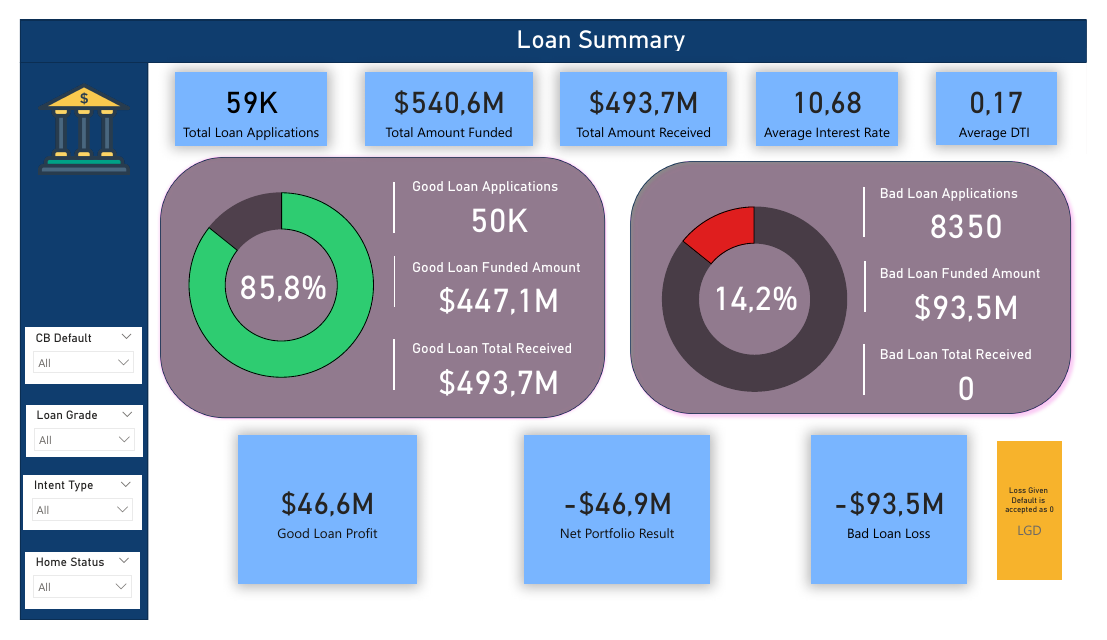

This screenshot's page, from the dashboard's own definition file:
{"tool":"powerbi","page":{"name":"Loan Summary","canvas":[1280,720],"ordinal":1},"visuals":[{"type":"shape","box":[164.4,161.1,541.1,320],"z":0},{"type":"shape","box":[0,0,1280,51.1],"z":1000},{"type":"shape","box":[0,51.1,154.4,668.9],"z":2000},{"type":"card","fields":{"Values":["sheet1.Total Records"]},"box":[185.6,63.3,183.3,87.8],"z":3000},{"type":"card","fields":{"Values":["sheet1.TotalAmountReceived"]},"box":[647.8,62.2,201.1,88.9],"z":4000},{"type":"card","fields":{"Values":["sheet1.Portfolio Value"]},"box":[414.4,63.3,201.1,87.8],"z":5000},{"type":"card","fields":{"Values":["Avg(sheet1.loan_int_rate)"]},"box":[883.3,63.3,171.1,87.8],"z":6000},{"type":"donutChart","fields":{"Category":["sheet1.loan_status"],"Y":["CountNonNull(sheet1.loan_status)"]},"box":[170,174.4,292.2,287.8],"z":7000},{"type":"card","fields":{"Values":["sheet1.Good Loan Percentage"]},"box":[217.8,234.4,196.7,166.7],"z":8000},{"type":"card","title":"Good Loan Applications","fields":{"Values":["sheet1.Good Loan Applications"]},"box":[465.6,190,217.8,74.4],"z":9000},{"type":"shape","box":[420,194.4,57.8,61.1],"z":10000},{"type":"shape","box":[421.1,283.3,56.7,61.1],"z":11000},{"type":"shape","box":[420,383.3,57.8,61.1],"z":12000},{"type":"card","title":"Good Loan Funded Amount","fields":{"Values":["sheet1.Good Loan Funded Amount"]},"box":[465.6,286.7,217.8,74.4],"z":13000},{"type":"card","title":"Good Loan Total Received","fields":{"Values":["sheet1.TotalAmountReceived"]},"box":[465.6,384.4,217.8,74.4],"z":14000},{"type":"shape","box":[724.4,161.1,545.6,320],"z":15000},{"type":"donutChart","fields":{"Category":["sheet1.loan_status"],"Y":["CountNonNull(sheet1.loan_status)"]},"box":[737.8,191.1,292.2,287.8],"z":16000},{"type":"card","fields":{"Values":["sheet1.Bad Loan Percentage"]},"box":[784.4,247.8,196.7,166.7],"z":17000},{"type":"card","title":"Bad Loan Applications","fields":{"Values":["sheet1.Bad Loan Applications"]},"box":[1026.7,197.8,217.8,74.4],"z":18000},{"type":"shape","box":[984.4,200,57.8,61.1],"z":19000},{"type":"shape","box":[985.6,288.9,56.7,61.1],"z":20000},{"type":"shape","box":[984.4,388.9,57.8,61.1],"z":21000},{"type":"card","title":"Bad Loan Funded Amount","fields":{"Values":["sheet1.Bad Loan Funded Amount"]},"box":[1026.7,294.4,217.8,74.4],"z":22000},{"type":"card","title":"Bad Loan Total Received","fields":{"Values":["sheet1.zero"]},"box":[1026.7,392.2,217.8,74.4],"z":23000},{"type":"card","fields":{"Values":["sheet1.LGD"]},"box":[1172,505,79,167],"z":24000},{"type":"slicer","fields":{"Values":["sheet1.cb_person_default_on_file"]},"box":[5.6,368.9,141.1,67.8],"z":25000},{"type":"slicer","fields":{"Values":["sheet1.loan_grade"]},"box":[6.7,462.2,141.1,62.2],"z":26000},{"type":"slicer","fields":{"Values":["sheet1.loan_intent"]},"box":[4.4,545.6,141.1,66.7],"z":27000},{"type":"slicer","fields":{"Values":["sheet1.person_home_ownership"]},"box":[5.6,637.8,138.9,68.9],"z":28000},{"type":"card","fields":{"Values":["Avg(sheet1.loan_percent_income)"]},"box":[1098.9,63.3,145.6,86.7],"z":29000},{"type":"card","fields":{"Values":["sheet1.Good Loan Profit"]},"box":[262,498,214,179],"z":30000},{"type":"card","fields":{"Values":["sheet1.Bad Loan Loss"]},"box":[949,498,187,179],"z":31000},{"type":"card","fields":{"Values":["sheet1.Net Portfolio Result"]},"box":[605,498,223,179],"z":32000},{"type":"card","fields":{"Values":["sheet1.Heading2"]},"box":[574.4,0,246.7,42.2],"z":33000},{"type":"image","box":[4,71,145,119],"z":34000}]}

Visuals, with their boxes in screenshot pixels (x1, y1, x2, y2), scaled from the page's 1280x720 canvas onto the 1107x640 screenshot:
shape: Rect(142, 143, 610, 428)
shape: Rect(0, 0, 1106, 45)
shape: Rect(0, 45, 134, 639)
card - sheet1.Total Records: Rect(161, 56, 319, 134)
card - sheet1.TotalAmountReceived: Rect(560, 55, 734, 134)
card - sheet1.Portfolio Value: Rect(358, 56, 532, 134)
card - Avg(sheet1.loan_int_rate): Rect(764, 56, 912, 134)
donutChart - sheet1.loan_status x CountNonNull(sheet1.loan_status): Rect(147, 155, 400, 411)
card - sheet1.Good Loan Percentage: Rect(188, 208, 358, 357)
"Good Loan Applications" card: Rect(403, 169, 591, 235)
shape: Rect(363, 173, 413, 227)
shape: Rect(364, 252, 413, 306)
shape: Rect(363, 341, 413, 395)
"Good Loan Funded Amount" card: Rect(403, 255, 591, 321)
"Good Loan Total Received" card: Rect(403, 342, 591, 408)
shape: Rect(626, 143, 1098, 428)
donutChart - sheet1.loan_status x CountNonNull(sheet1.loan_status): Rect(638, 170, 891, 426)
card - sheet1.Bad Loan Percentage: Rect(678, 220, 848, 368)
"Bad Loan Applications" card: Rect(888, 176, 1076, 242)
shape: Rect(851, 178, 901, 232)
shape: Rect(852, 257, 901, 311)
shape: Rect(851, 346, 901, 400)
"Bad Loan Funded Amount" card: Rect(888, 262, 1076, 328)
"Bad Loan Total Received" card: Rect(888, 349, 1076, 415)
card - sheet1.LGD: Rect(1014, 449, 1082, 597)
slicer - sheet1.cb_person_default_on_file: Rect(5, 328, 127, 388)
slicer - sheet1.loan_grade: Rect(6, 411, 128, 466)
slicer - sheet1.loan_intent: Rect(4, 485, 126, 544)
slicer - sheet1.person_home_ownership: Rect(5, 567, 125, 628)
card - Avg(sheet1.loan_percent_income): Rect(950, 56, 1076, 133)
card - sheet1.Good Loan Profit: Rect(227, 443, 412, 602)
card - sheet1.Bad Loan Loss: Rect(821, 443, 982, 602)
card - sheet1.Net Portfolio Result: Rect(523, 443, 716, 602)
card - sheet1.Heading2: Rect(497, 0, 710, 38)
image: Rect(3, 63, 129, 169)
